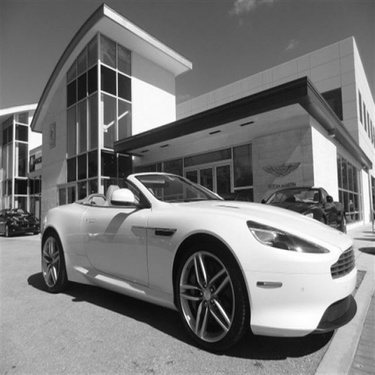car: (35, 166, 361, 359), (253, 183, 351, 246), (1, 200, 42, 238)
